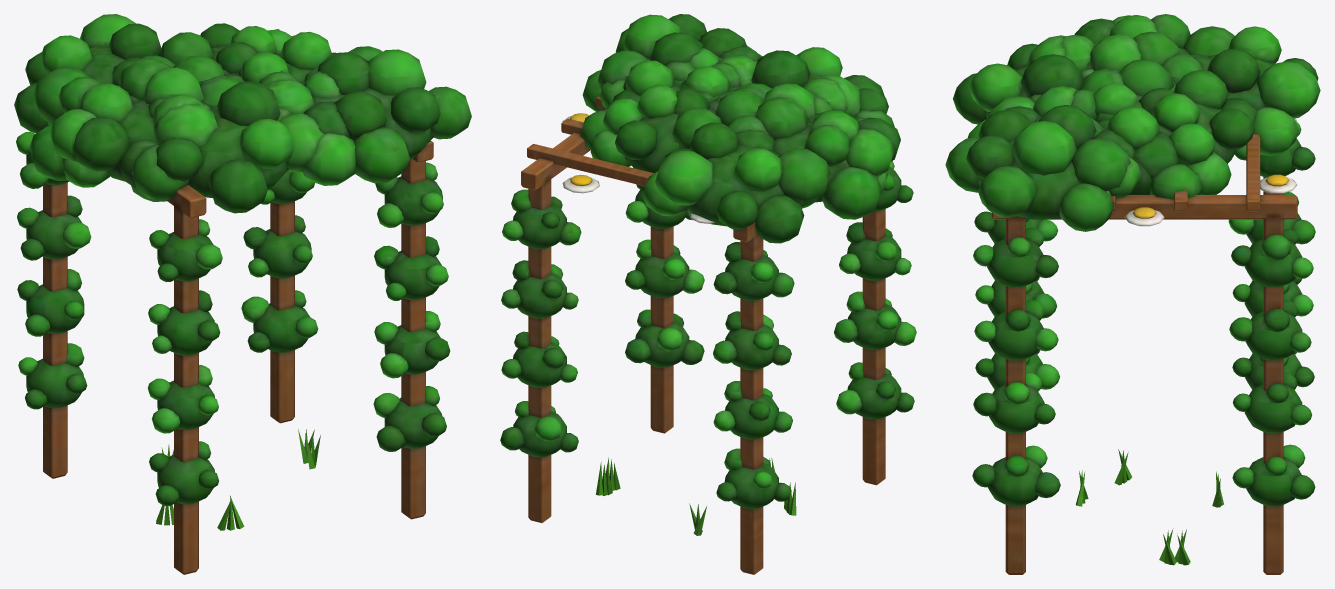
The model's file is kiwifruit_tree.glb.
The picture shows the model from 3 angles, left to right: view 1: azimuth 30°, elevation 25°; view 2: azimuth 150°, elevation 25°; view 3: azimuth 270°, elevation 25°; orthographic projection. The views are drawn at different scales.
Parts seen in each view (by area): view 1: crown, kiwifruit_tree; view 2: crown, kiwifruit_tree; view 3: crown, kiwifruit_tree.
Part boxes in pixels (bbox=[...]): crown: bbox=[14, 14, 471, 574]; kiwifruit_tree: bbox=[156, 429, 320, 530]; crown: bbox=[500, 14, 916, 574]; kiwifruit_tree: bbox=[596, 457, 796, 535]; crown: bbox=[945, 14, 1320, 574]; kiwifruit_tree: bbox=[1076, 449, 1223, 565].
Bounding box in the file's own units: 1.01 × 1.23 × 0.9319.
1 material, 1 textured.
